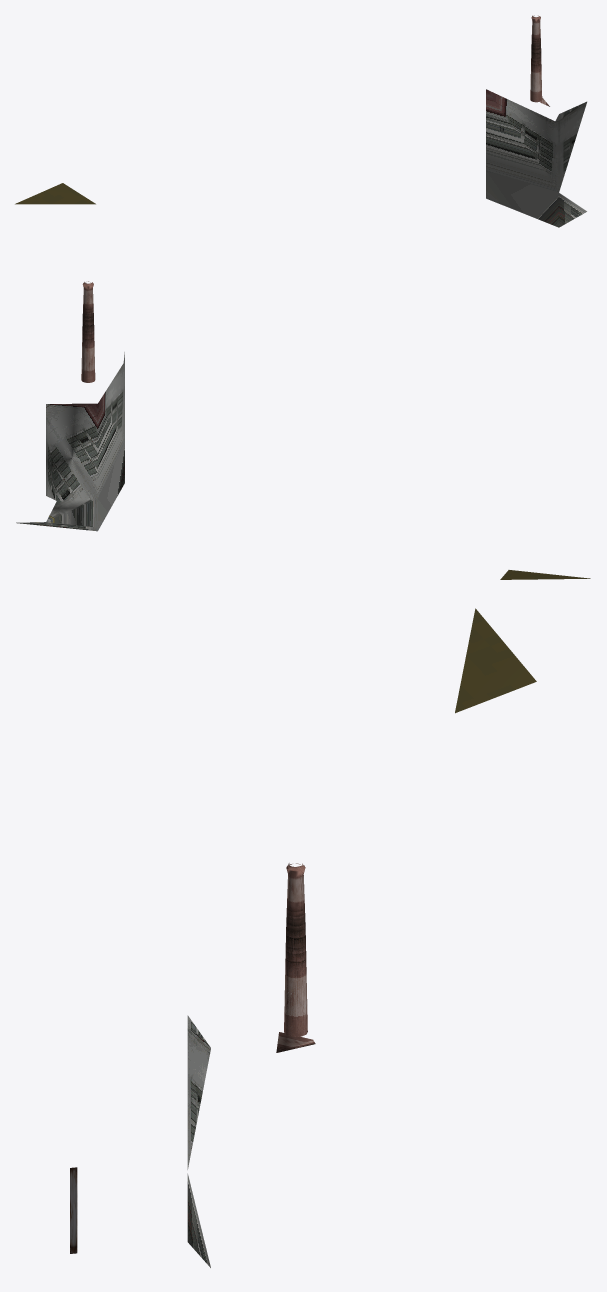
The model's file is world_camden_10_-1.gltf.
3 renders of one model, top to bottom at view 1: azimuth 30°, elevation 25°; view 2: azimuth 150°, elevation 25°; view 3: azimuth 270°, elevation 25°, orthographic. The views are drawn at different scales.
Bounding box in the file's own units: 242 × 88.35 × 95.88.
5 materials, 5 textured.
